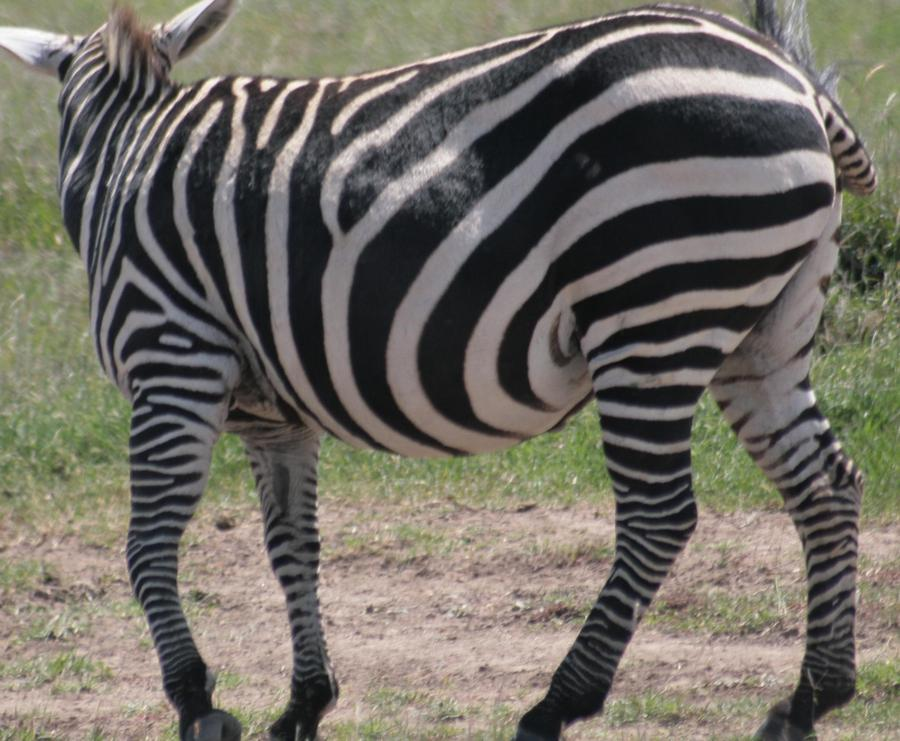zebra_plains: (72, 72, 740, 433)
